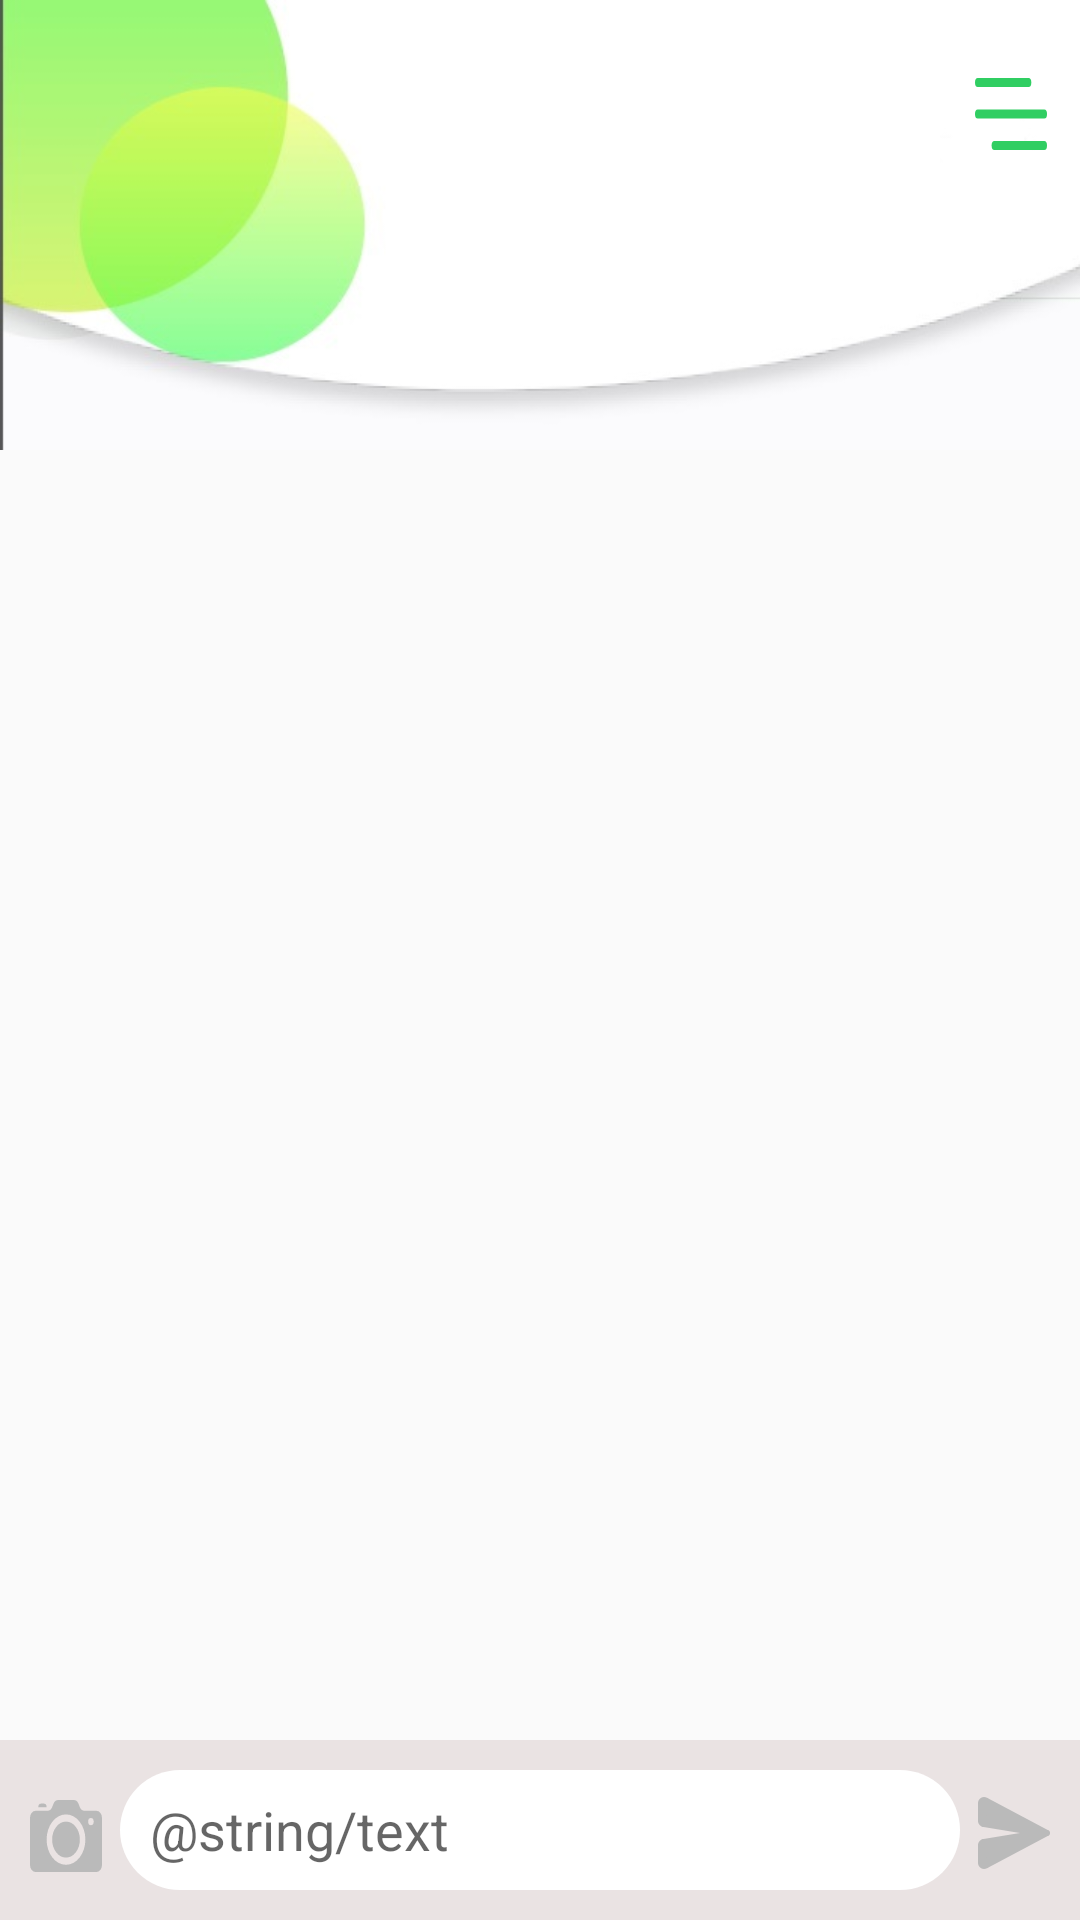

Screen size 1080px x 1920px. Icon name, then its box in pixels as (x1, y1, x2, y2):
camera: (30, 1800, 102, 1872)
menu: (975, 78, 1047, 150)
paper plane: (978, 1797, 1050, 1869)
